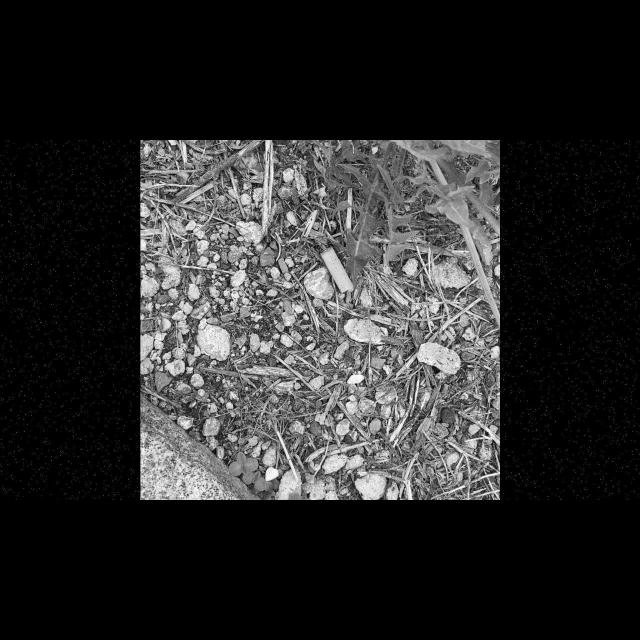cigarette: (318, 246, 354, 293)
